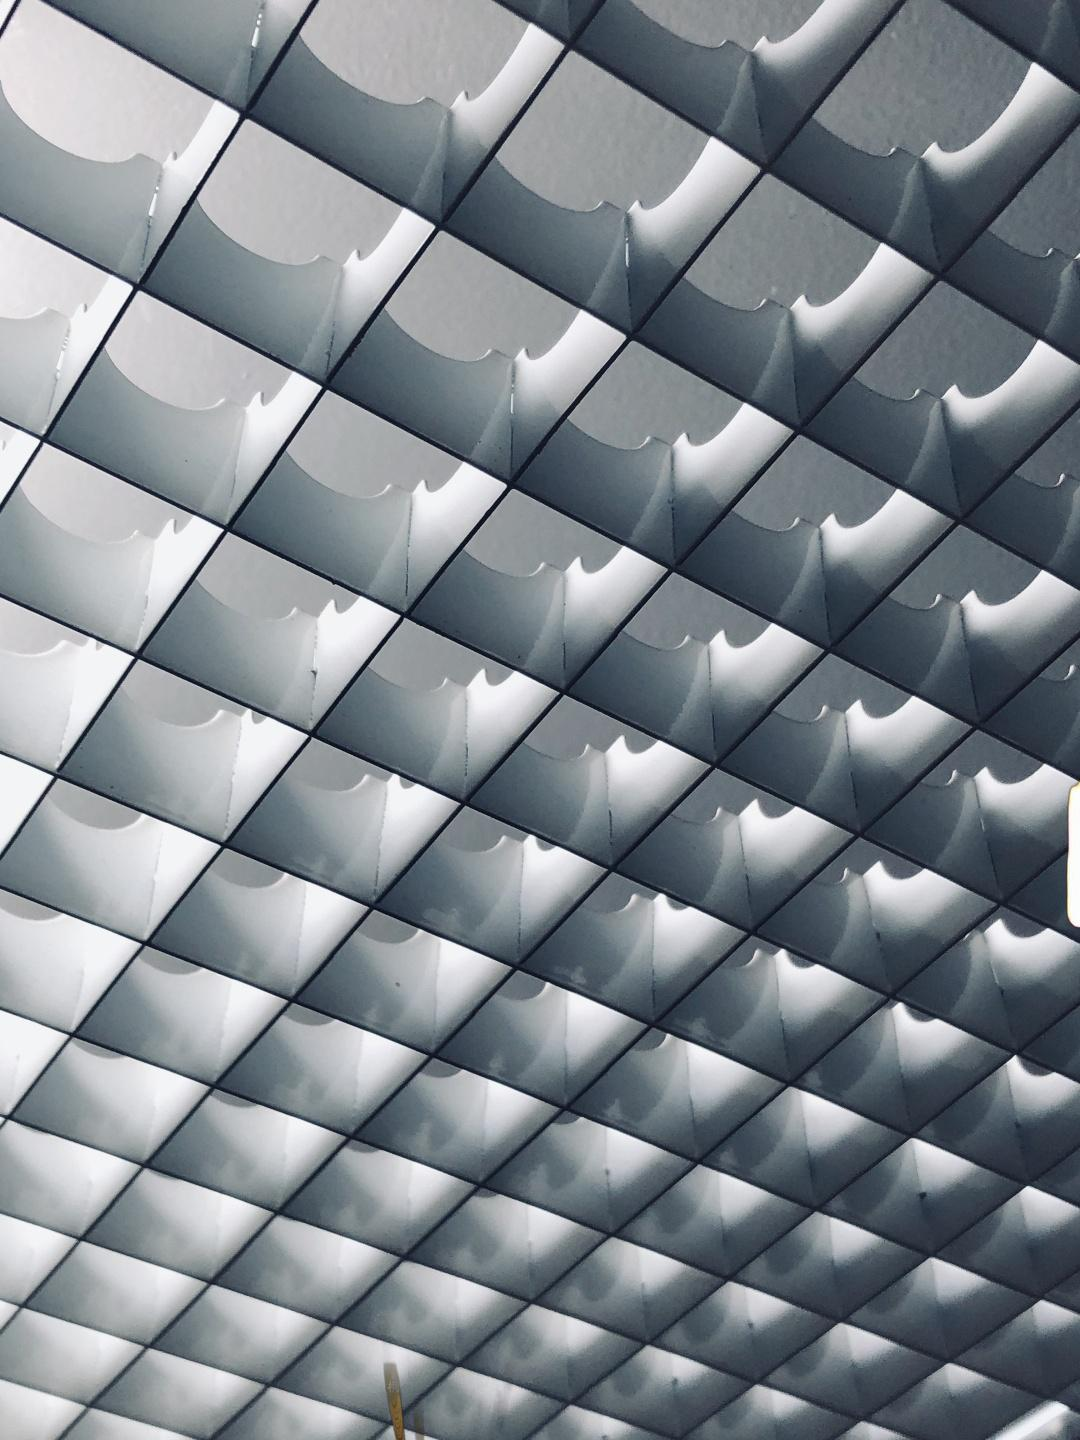paper-bag: (1064, 743, 1080, 946)
penholder: (376, 1312, 526, 1440)
